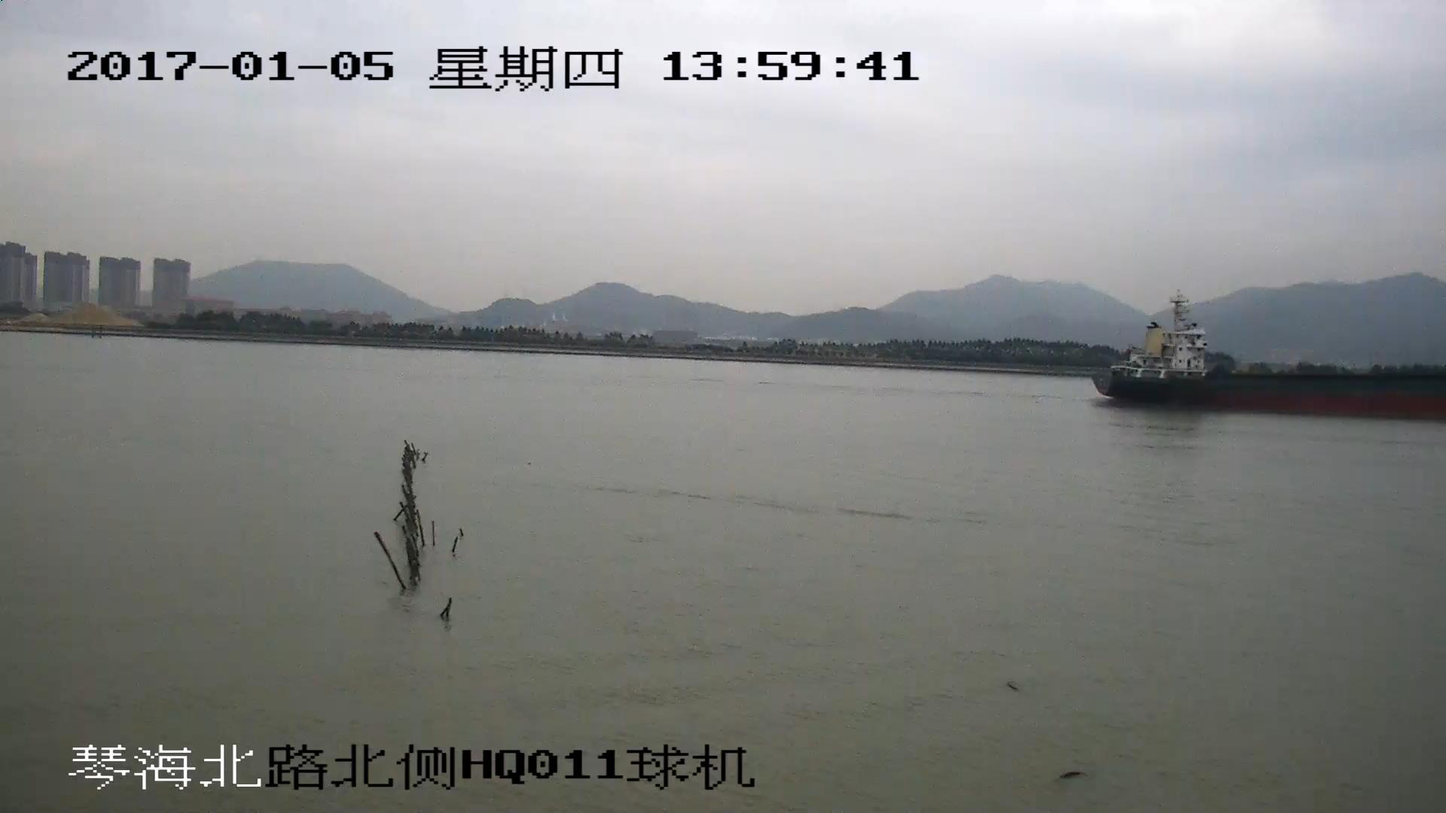general cargo ship: (1094, 293, 1445, 416)
